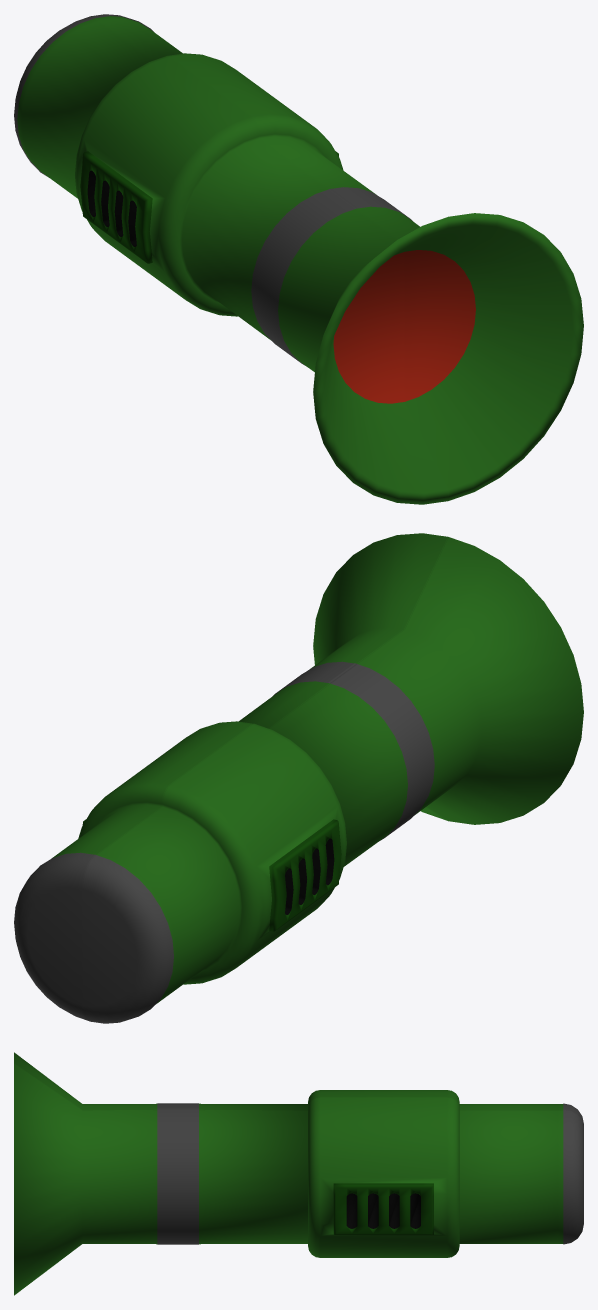
Rendered from Rocket Launcher.fbx.
3 views of the same model, one above another, from view 1: azimuth 30°, elevation 25°; view 2: azimuth 150°, elevation 25°; view 3: azimuth 270°, elevation 25° (orthographic). The views are drawn at different scales.
Parts seen in each view (by area): view 1: Rocket Launcher; view 2: Rocket Launcher; view 3: Rocket Launcher.
Boxes of the visible parts, x1,y1,x2,y2 form: Rocket Launcher: [14, 14, 583, 504]; Rocket Launcher: [14, 533, 583, 1023]; Rocket Launcher: [14, 1052, 583, 1295].
Size of the model in its own units: 58.96 by 59.18 by 138.
